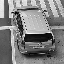motor: (13, 7, 51, 53)
